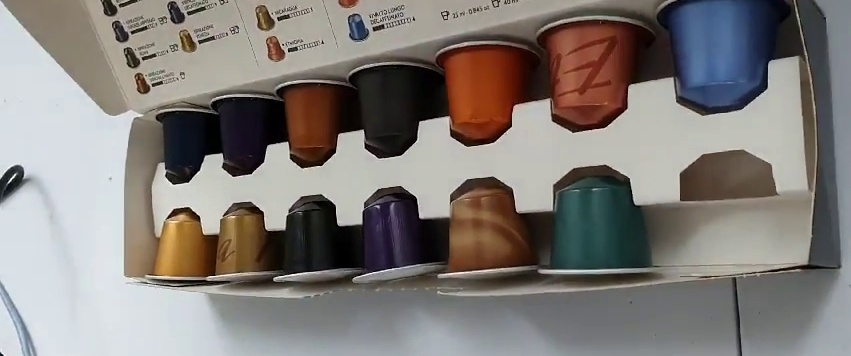capsule_1: (154, 108, 221, 185)
capsule_10: (276, 196, 362, 284)
capsule_11: (353, 187, 447, 285)
capsule_12: (439, 181, 549, 280)
capsule_13: (534, 170, 657, 279)
capsule_2: (210, 91, 289, 178)
capsule_3: (270, 76, 358, 164)
capsule_4: (350, 61, 450, 155)
capsule_5: (436, 37, 542, 142)
capsule_6: (534, 12, 658, 130)
capsule_7: (655, 1, 790, 117)
capsule_8: (143, 211, 225, 287)
capsule_9: (211, 202, 284, 281)
